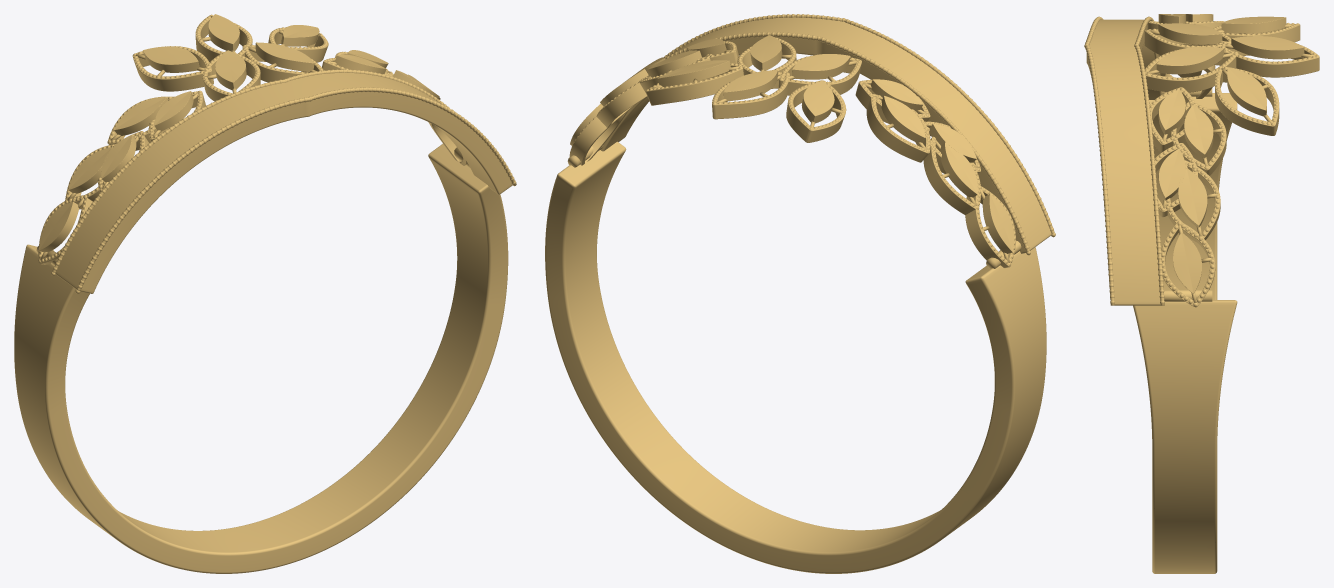
The picture shows the model from 3 angles, left to right: view 1: azimuth 30°, elevation 25°; view 2: azimuth 150°, elevation 25°; view 3: azimuth 270°, elevation 25°; orthographic projection. The views are drawn at different scales.
Parts seen in each view (by area): view 1: Complete tapered shank | reverse geometry estimated, Shallow chevron front band, Milgrain | individually editable bead geometry, Shallow chevron front band rolled rim, Central crown petal02 open gallery wall, Central crown petal02 raised platelet, Shoulder crown-1_2 raised platelet, Central crown petal01 raised platelet, Shallow chevron front band rolled rim.001, Shoulder crown-1_0 raised platelet, Shoulder crown-1_1 raised platelet, Central crown petal00 raised platelet (+7 smaller); view 2: Complete tapered shank | reverse geometry estimated, Shallow chevron front band, Milgrain | individually editable bead geometry, Central crown petal04 open gallery wall, Central crown petal03 open gallery wall, Central crown petal02 open gallery wall, Shoulder crown-1_0 open gallery wall, Shoulder crown-1_2 raised platelet, Central crown petal00 raised platelet, Shoulder crown-1_1 raised platelet, Shoulder crown1_2 open gallery wall, Shoulder crown-1_0 raised platelet (+13 smaller); view 3: Complete tapered shank | reverse geometry estimated, Shallow chevron front band, Milgrain | individually editable bead geometry, Central crown petal04 open gallery wall, Central crown petal01 raised platelet, Central crown petal03 open gallery wall, Central crown petal03 raised platelet, Central crown petal04 raised platelet, Central crown petal01 open gallery wall, Shoulder crown1_2 raised platelet, Shoulder crown1_1 raised platelet, Shoulder crown1_0 raised platelet (+14 smaller).
Boxes of the visible parts, <box> form: Complete tapered shank | reverse geometry estimated: <box>14,144,508,573</box>; Shallow chevron front band: <box>55,72,512,293</box>; Milgrain | individually editable bead geometry: <box>38,14,516,293</box>; Shallow chevron front band rolled rim: <box>77,87,516,290</box>; Central crown petal02 open gallery wall: <box>132,46,213,91</box>; Central crown petal02 raised platelet: <box>143,46,199,72</box>; Shoulder crown-1_2 raised platelet: <box>38,202,79,252</box>; Central crown petal01 raised platelet: <box>255,42,314,72</box>; Shallow chevron front band rolled rim.001: <box>52,70,448,272</box>; Shoulder crown-1_0 raised platelet: <box>114,97,167,135</box>; Shoulder crown-1_1 raised platelet: <box>68,147,112,193</box>; Central crown petal00 raised platelet: <box>215,50,246,89</box>; Complete tapered shank | reverse geometry estimated: <box>545,141,1046,573</box>; Shallow chevron front band: <box>600,17,1051,253</box>; Milgrain | individually editable bead geometry: <box>570,14,1055,266</box>; Central crown petal04 open gallery wall: <box>645,63,743,105</box>; Central crown petal03 open gallery wall: <box>712,72,789,119</box>; Central crown petal02 open gallery wall: <box>786,80,846,142</box>; Shoulder crown-1_0 open gallery wall: <box>866,94,930,162</box>; Shoulder crown-1_2 raised platelet: <box>982,194,1014,253</box>; Central crown petal00 raised platelet: <box>792,54,850,79</box>; Shoulder crown-1_1 raised platelet: <box>939,142,977,197</box>; Shoulder crown1_2 open gallery wall: <box>569,110,628,165</box>; Shoulder crown-1_0 raised platelet: <box>881,96,925,142</box>; Complete tapered shank | reverse geometry estimated: <box>1133,93,1237,573</box>; Shallow chevron front band: <box>1086,19,1161,305</box>; Milgrain | individually editable bead geometry: <box>1084,16,1319,306</box>; Central crown petal04 open gallery wall: <box>1215,66,1279,135</box>; Central crown petal01 raised platelet: <box>1156,46,1223,74</box>; Central crown petal03 open gallery wall: <box>1216,42,1319,77</box>; Central crown petal03 raised platelet: <box>1231,36,1304,59</box>; Central crown petal04 raised platelet: <box>1227,67,1266,116</box>; Central crown petal01 open gallery wall: <box>1145,50,1238,92</box>; Shoulder crown1_2 raised platelet: <box>1173,232,1201,293</box>; Shoulder crown1_1 raised platelet: <box>1178,168,1207,227</box>; Shoulder crown1_0 raised platelet: <box>1184,105,1213,158</box>.
Size of the model in its own units: 0.0197 by 0.0202 by 0.0085.
